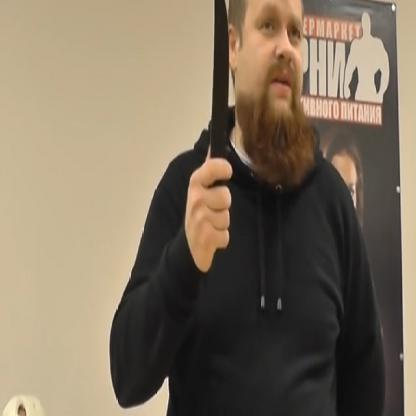knife: (193, 0, 240, 250)
